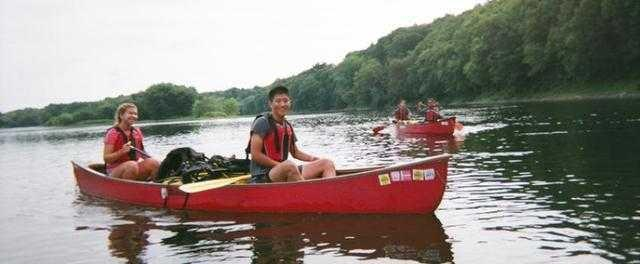kayak: (71, 152, 452, 217), (395, 118, 459, 137)
